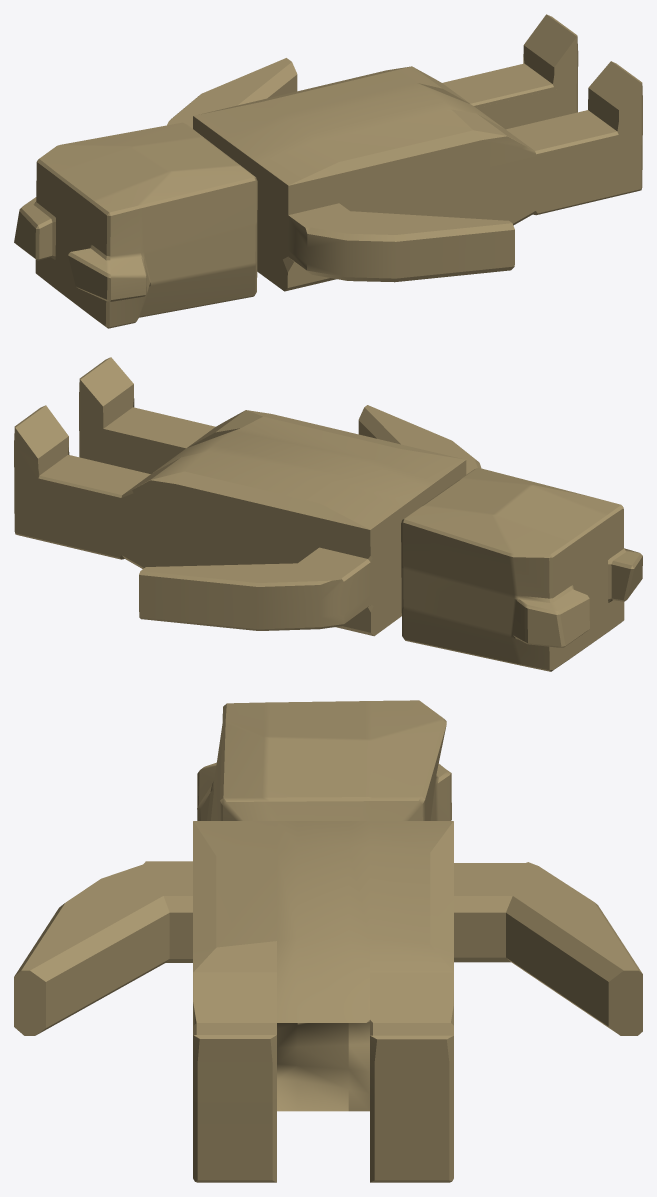
The model's file is teddybear.fbx.
3 renders of one model, top to bottom at view 1: azimuth 30°, elevation 25°; view 2: azimuth 150°, elevation 25°; view 3: azimuth 270°, elevation 25°, orthographic. The views are drawn at different scales.
Parts seen in each view (by area): view 1: pCube1; view 2: pCube1; view 3: pCube1.
Part boxes in pixels (bbox=[...]): pCube1: bbox=[14, 14, 642, 328]; pCube1: bbox=[14, 357, 642, 671]; pCube1: bbox=[14, 700, 642, 1182].
Bounding box in the file's own units: 13.32 × 3.02 × 9.65.
